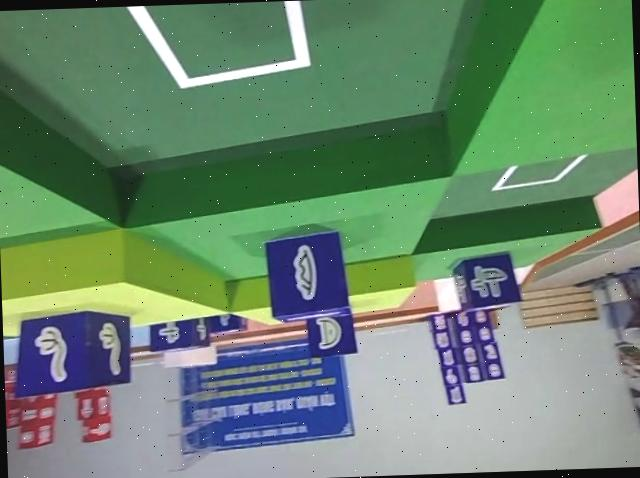R2 Real Blue: (11, 306, 131, 396), (262, 226, 351, 323), (456, 249, 525, 311), (306, 306, 359, 358), (152, 316, 213, 354)
